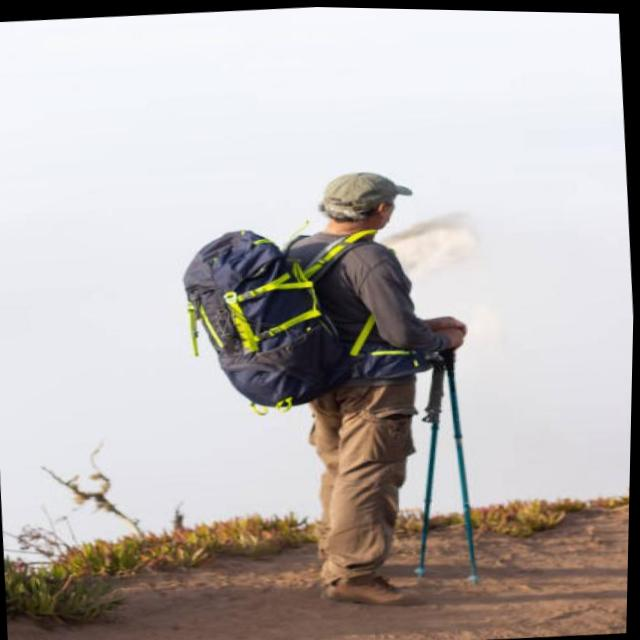no helmet: (307, 152, 411, 235)
